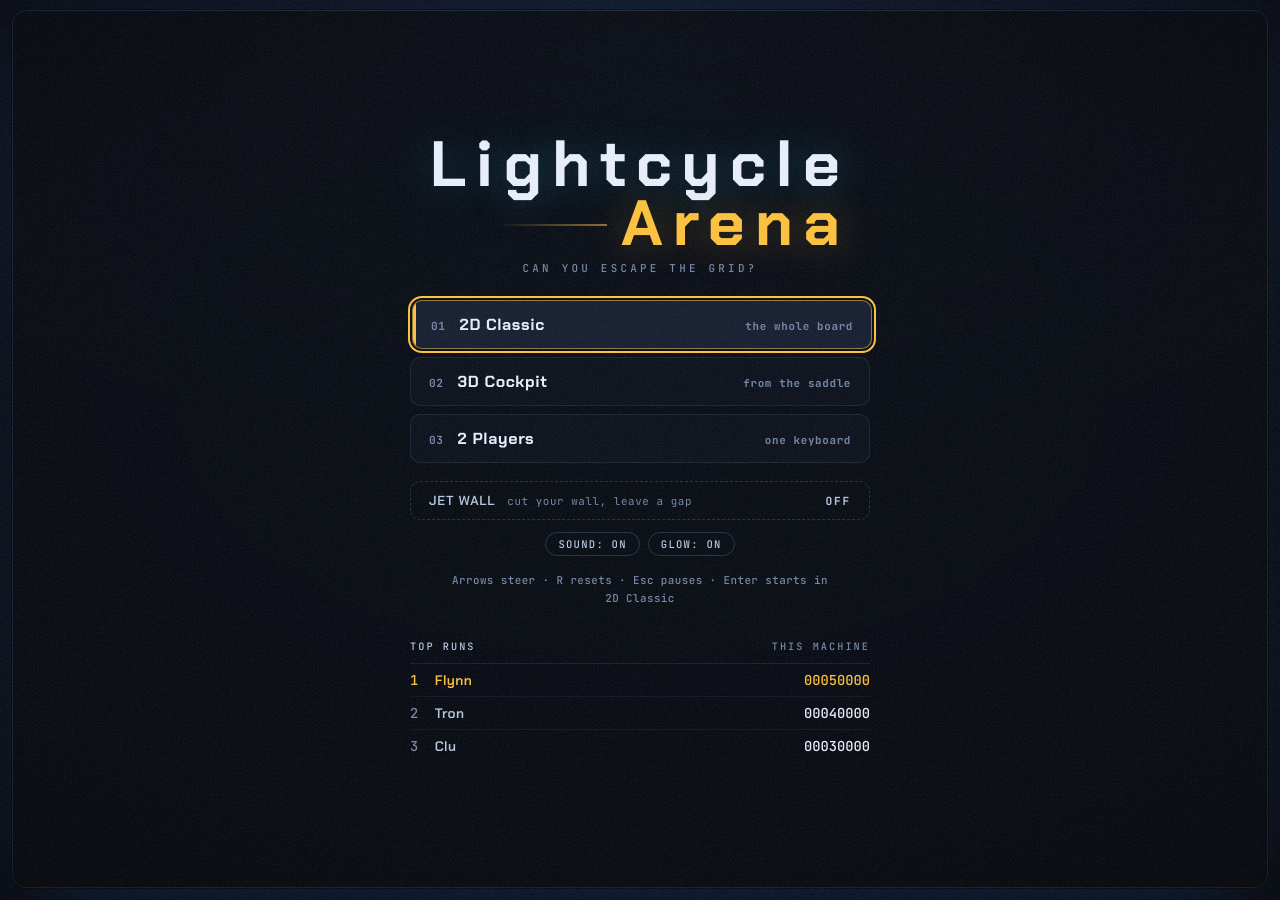
Scenario: GameCanvas › credits the round to whoever is left standing, and says what happened
Click the button "03 2 Players one keyboard" at point(496, 439), box [410,414,870,464]
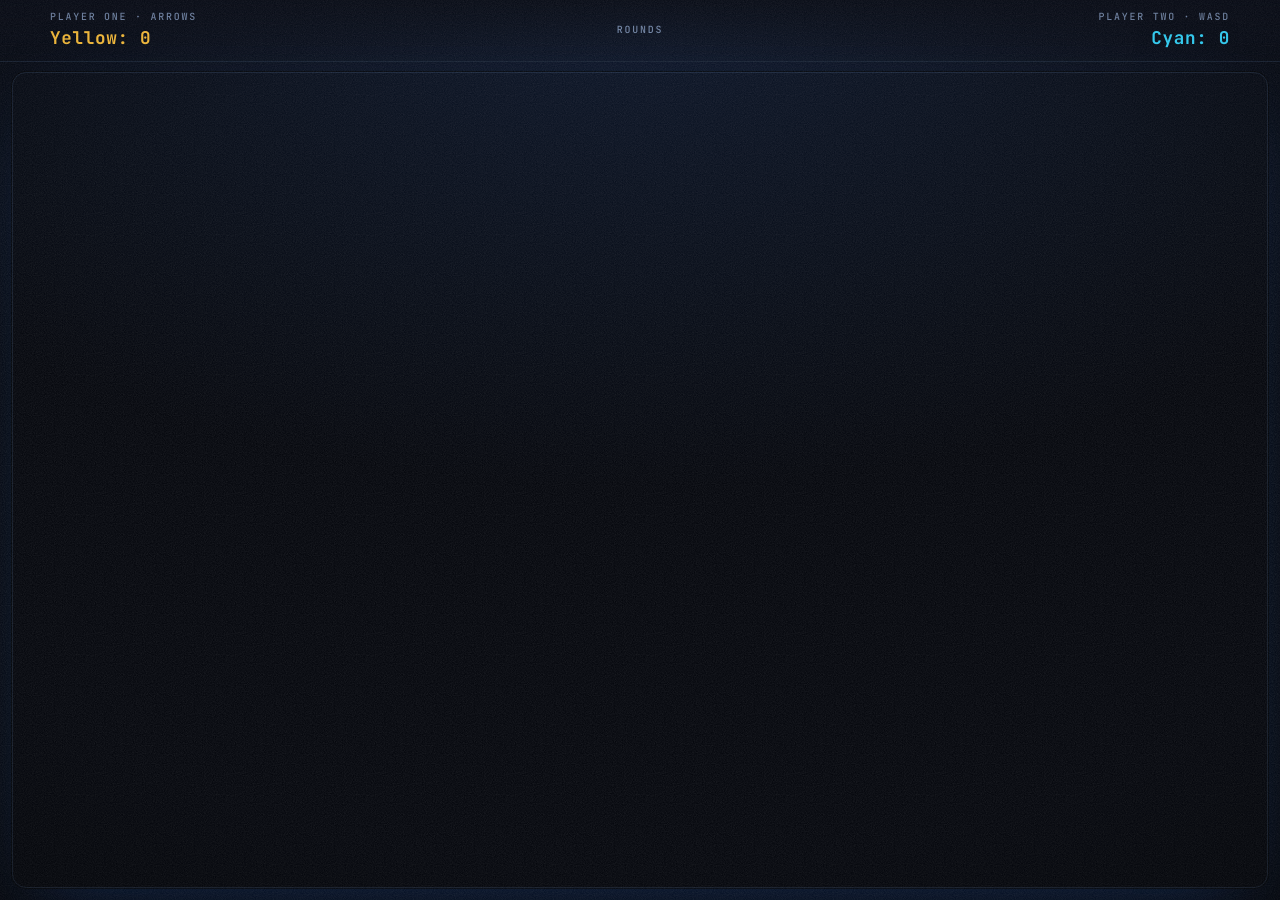
Press ArrowLeft
Wait 4000 ms
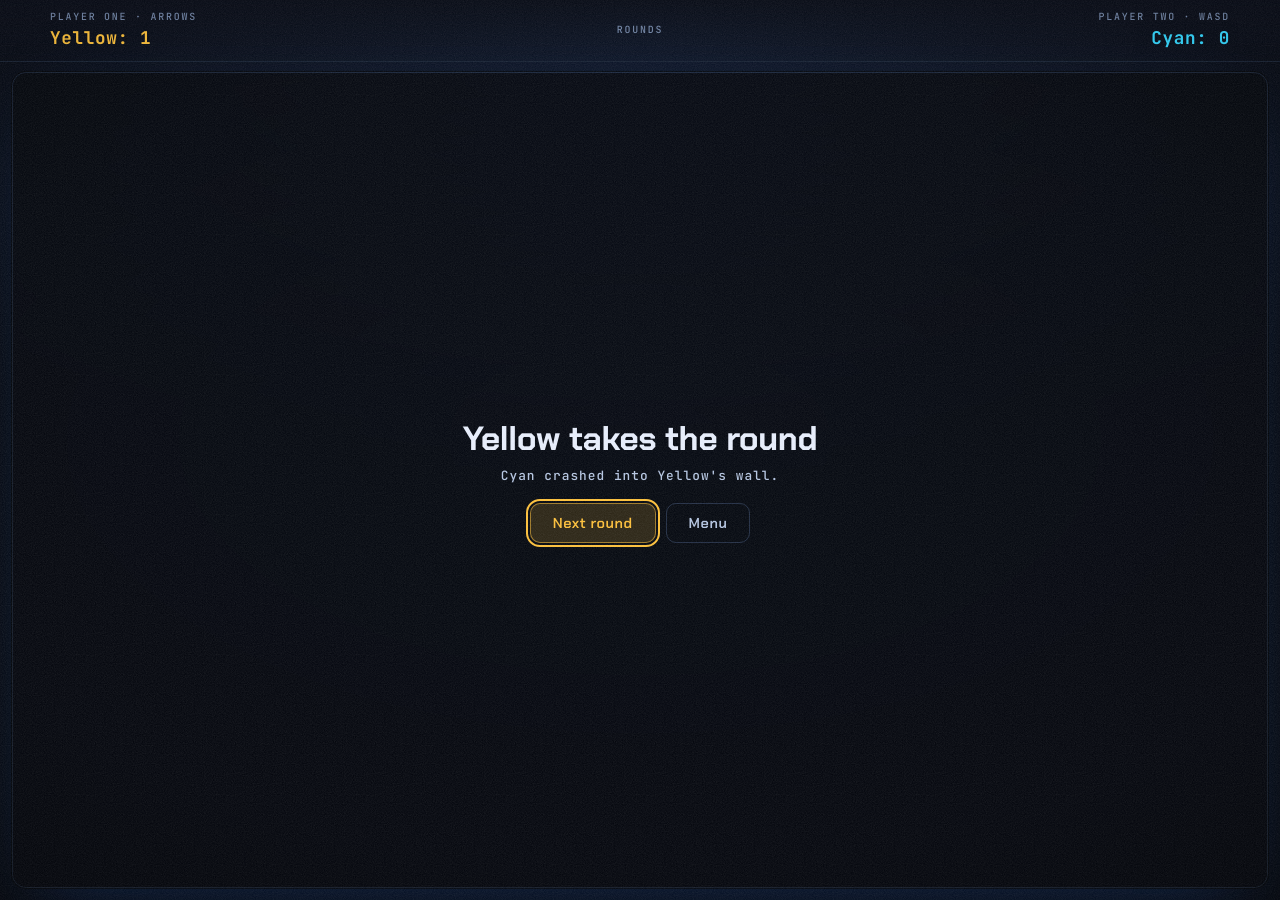
Result: the dialog shows "takes the round" at [463,417,817,460]
Result: the dialog shows "wall" at [501,467,779,484]
